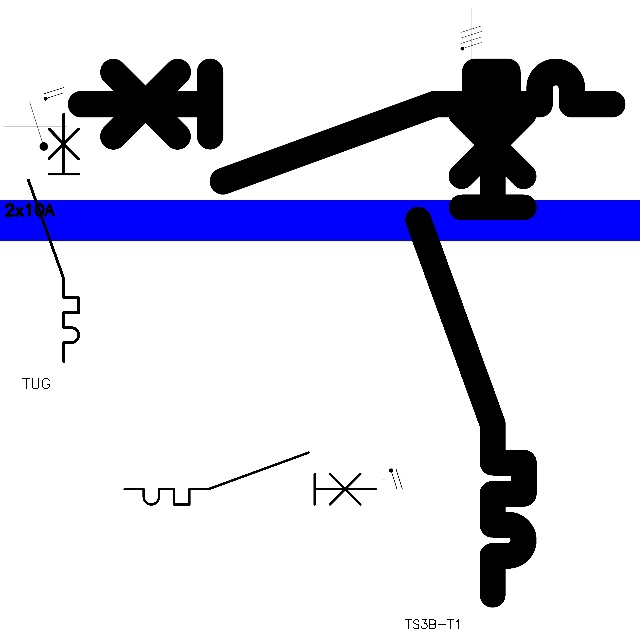interruptor_termomagnetico: (67, 58, 626, 195), (405, 69, 537, 607), (118, 446, 382, 511), (22, 107, 85, 367)
